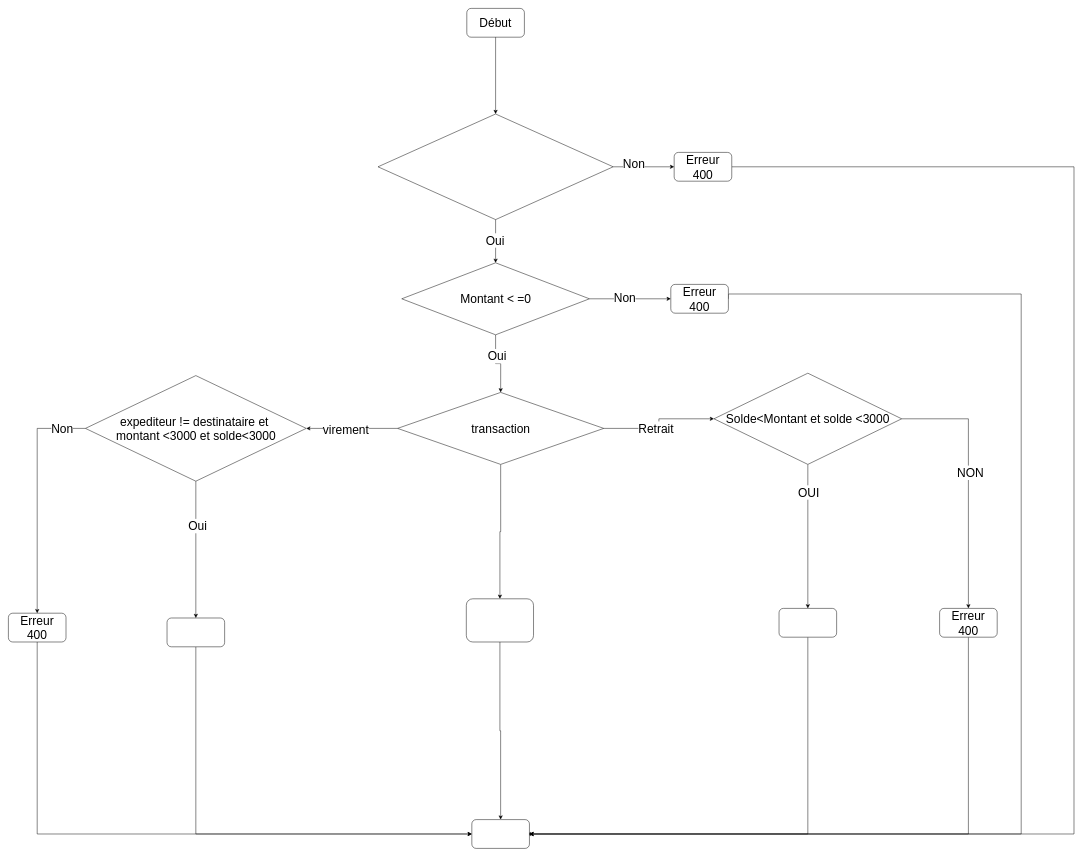
Image size: 1086x857. Some labels were removed from this diagram. The centre of each missing label's shape, as x and y in pixels:
"FIN" belongs at pixel 500 833.
"Retrait reussi" belongs at pixel 808 622.
"type de transaction et montant presents" belongs at pixel 495 167.
"type de transaction inconnue" belongs at pixel 500 620.
"virement réussi" belongs at pixel 196 632.
